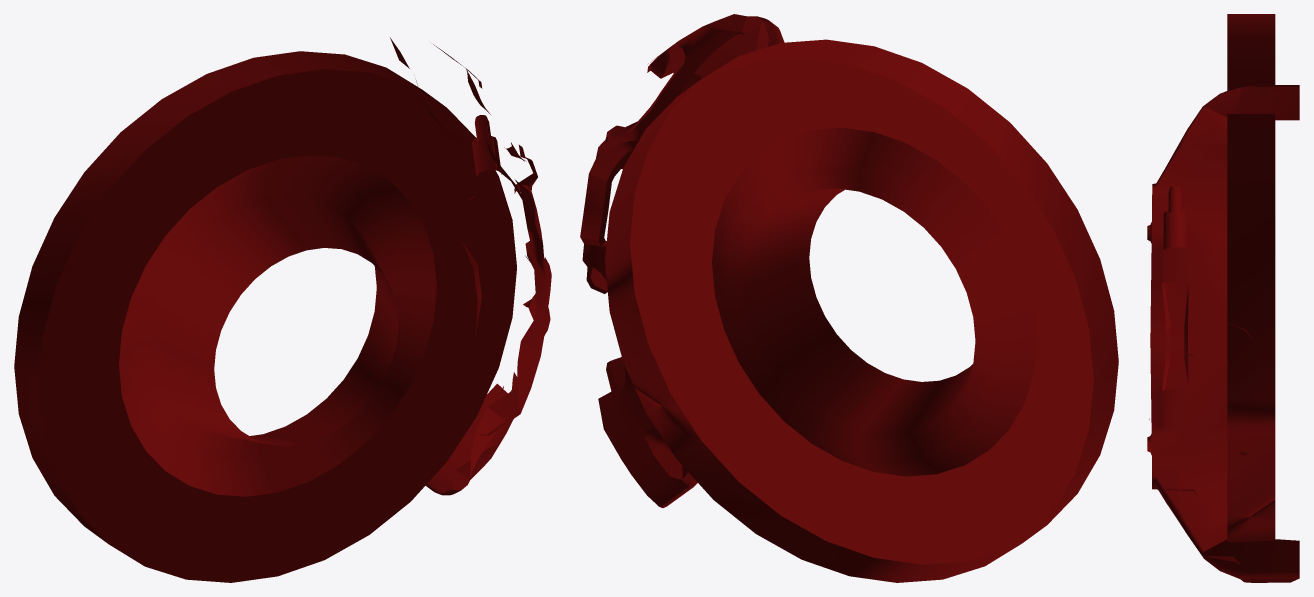
File: Palladium_Brakes_Perf_F.glb
3 renders of one model, left to right at view 1: azimuth 30°, elevation 25°; view 2: azimuth 150°, elevation 25°; view 3: azimuth 270°, elevation 25°, orthographic. The views are drawn at different scales.
Visible parts, largest first — view 1: Rotor_Perf_F2, Caliper_Perf_F2; view 2: Rotor_Perf_F2, Caliper_Perf_F2; view 3: Caliper_Perf_F2, Rotor_Perf_F2.
Part boxes in pixels (bbox=[...]): Rotor_Perf_F2: bbox=[14, 51, 516, 582]; Caliper_Perf_F2: bbox=[390, 37, 551, 495]; Rotor_Perf_F2: bbox=[605, 39, 1118, 582]; Caliper_Perf_F2: bbox=[580, 14, 784, 507]; Caliper_Perf_F2: bbox=[1147, 85, 1299, 582]; Rotor_Perf_F2: bbox=[1227, 14, 1275, 542].
Size of the model in its own units: 0.4066 by 0.3835 by 0.1066.
